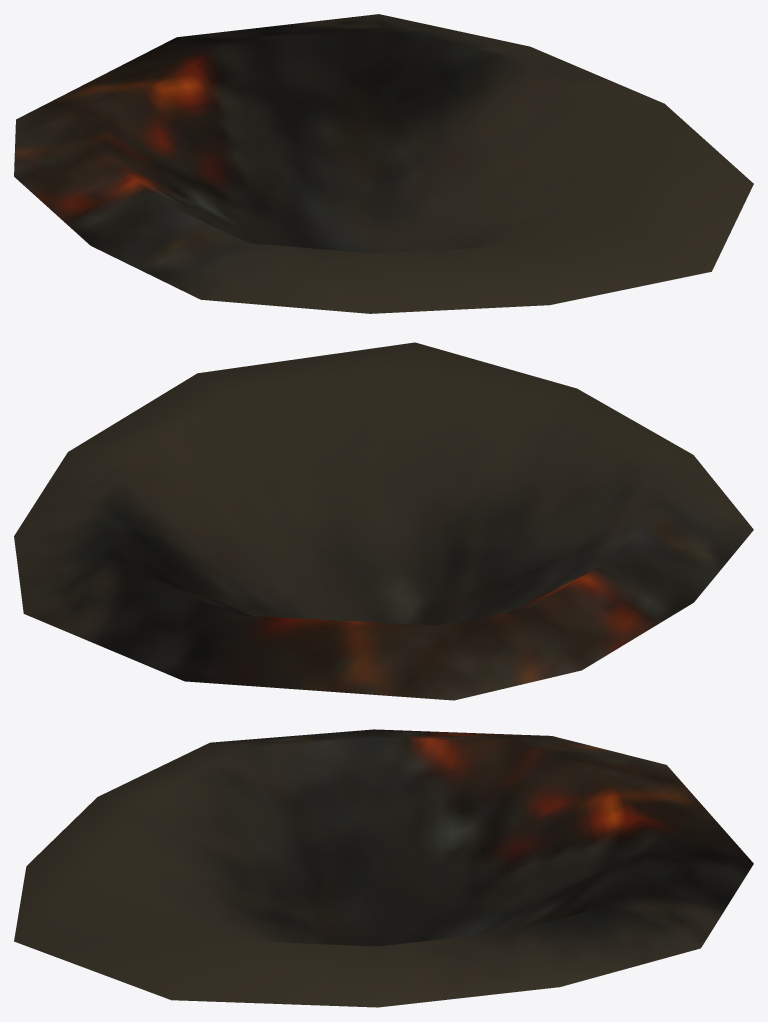
Rendered from crater_02.FBX.
The picture shows the model from 3 angles, top to bottom: view 1: azimuth 30°, elevation 25°; view 2: azimuth 150°, elevation 25°; view 3: azimuth 270°, elevation 25°; orthographic projection. The views are drawn at different scales.
Parts seen in each view (by area): view 1: Cylinder006; view 2: Cylinder006; view 3: Cylinder006.
Part boxes in pixels (box(x1,y1,x2,y2)): Cylinder006: box(14, 14, 753, 313); Cylinder006: box(14, 342, 753, 700); Cylinder006: box(14, 729, 753, 1007).
Bounding box in the file's own units: 353 × 84.65 × 397.
